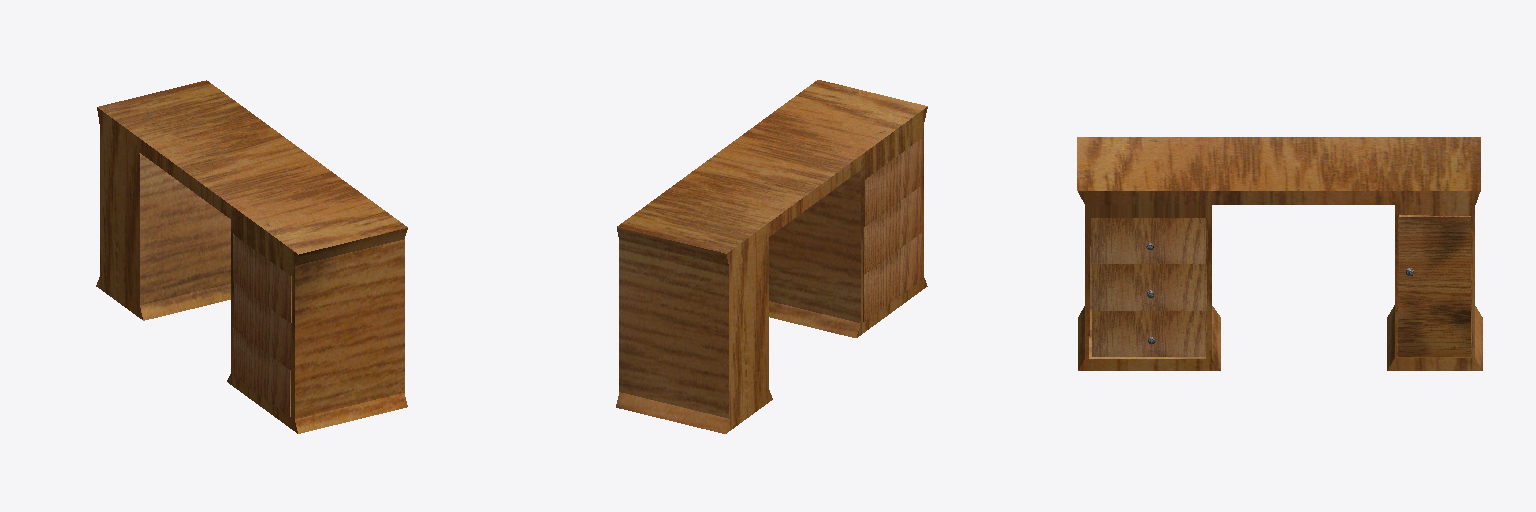
3 views of the same model, side by side, from view 1: azimuth 30°, elevation 25°; view 2: azimuth 150°, elevation 25°; view 3: azimuth 270°, elevation 25° (orthographic).
Parts seen in each view (by area): view 1: Cube, Cube.001_Cube.002; view 2: Cube, Cube.001_Cube.002; view 3: Cube, Cube.001_Cube.002, Sphere.
Part boxes in pixels (left/top/right/bottom): Cube: left=96, top=80, right=407, bottom=433; Cube.001_Cube.002: left=233, top=234, right=291, bottom=416; Cube: left=616, top=80, right=927, bottom=433; Cube.001_Cube.002: left=863, top=138, right=921, bottom=321; Cube: left=1077, top=137, right=1482, bottom=370; Cube.001_Cube.002: left=1091, top=218, right=1206, bottom=356; Sphere: left=1398, top=215, right=1470, bottom=356.
Size of the model in its own units: 2.17 by 3.13 by 6.38.
2 materials, 2 textured.